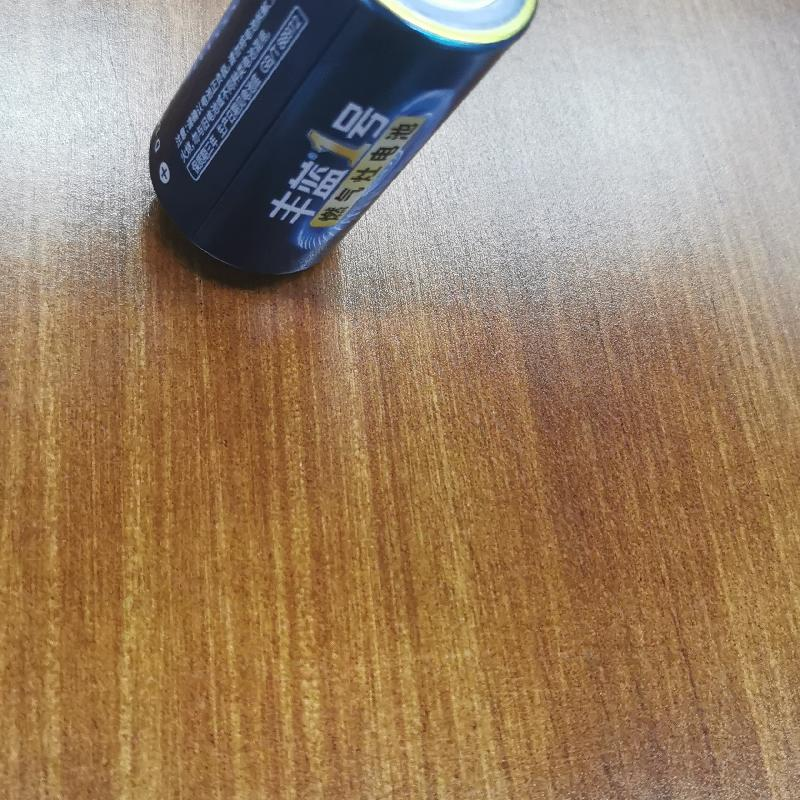battery: (142, 0, 539, 285)
